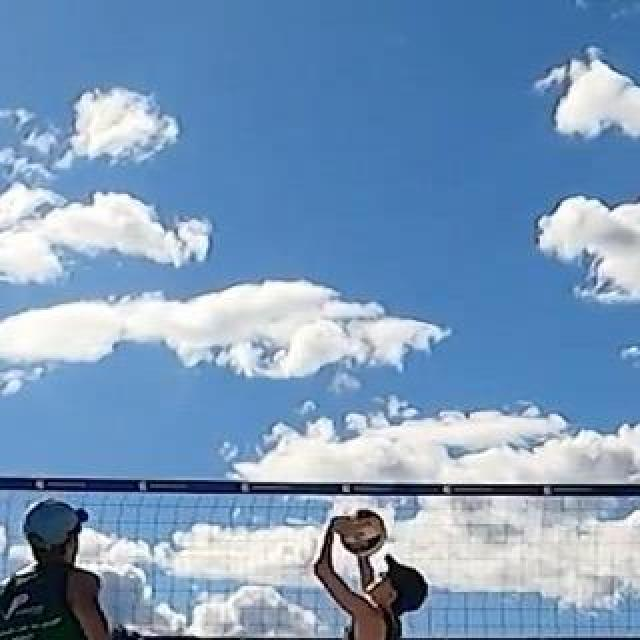volleyball: (344, 509, 386, 555)
